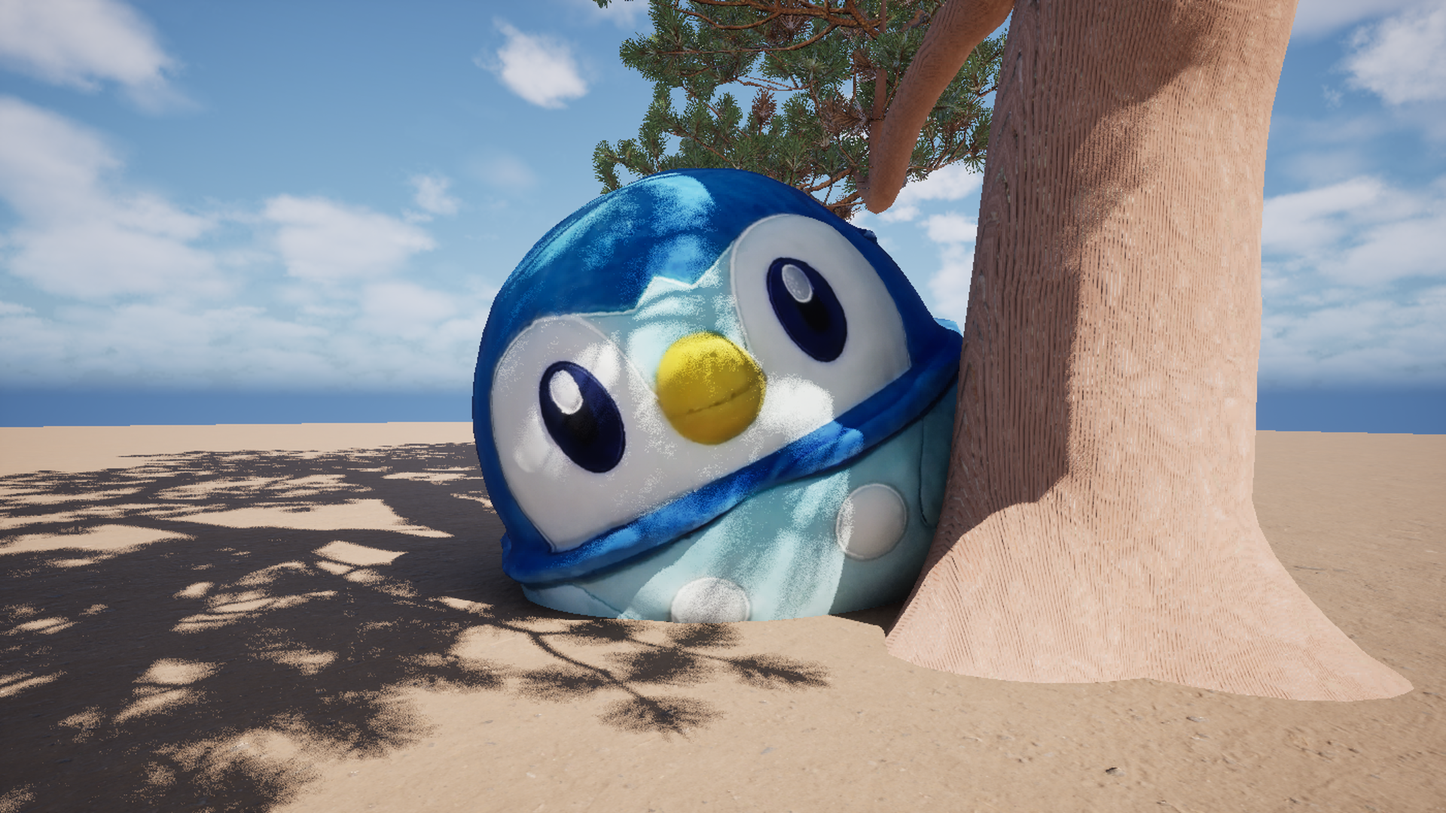Piplup: (241, 0, 1231, 813)
